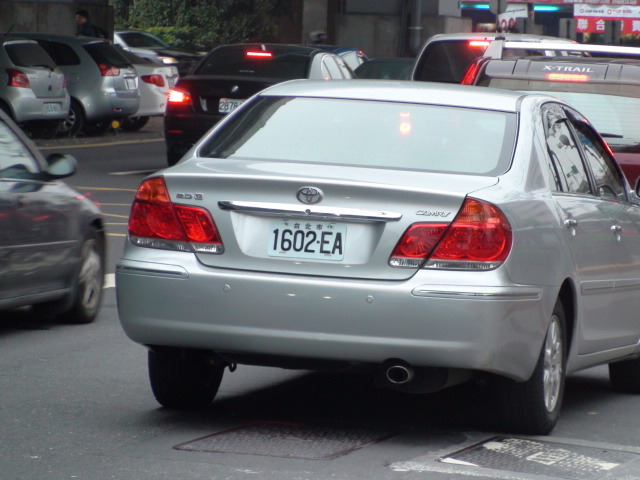plate: (270, 218, 346, 265), (218, 97, 248, 116)
